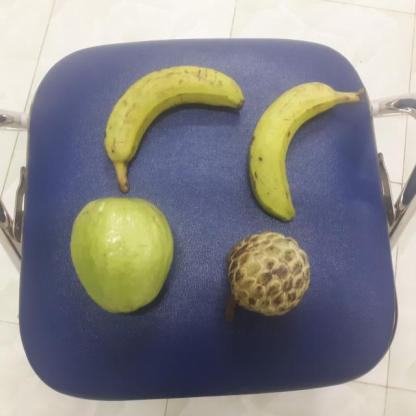annona: (228, 228, 312, 316)
banana: (245, 76, 345, 224), (102, 66, 248, 166)
guava: (69, 194, 176, 316)
